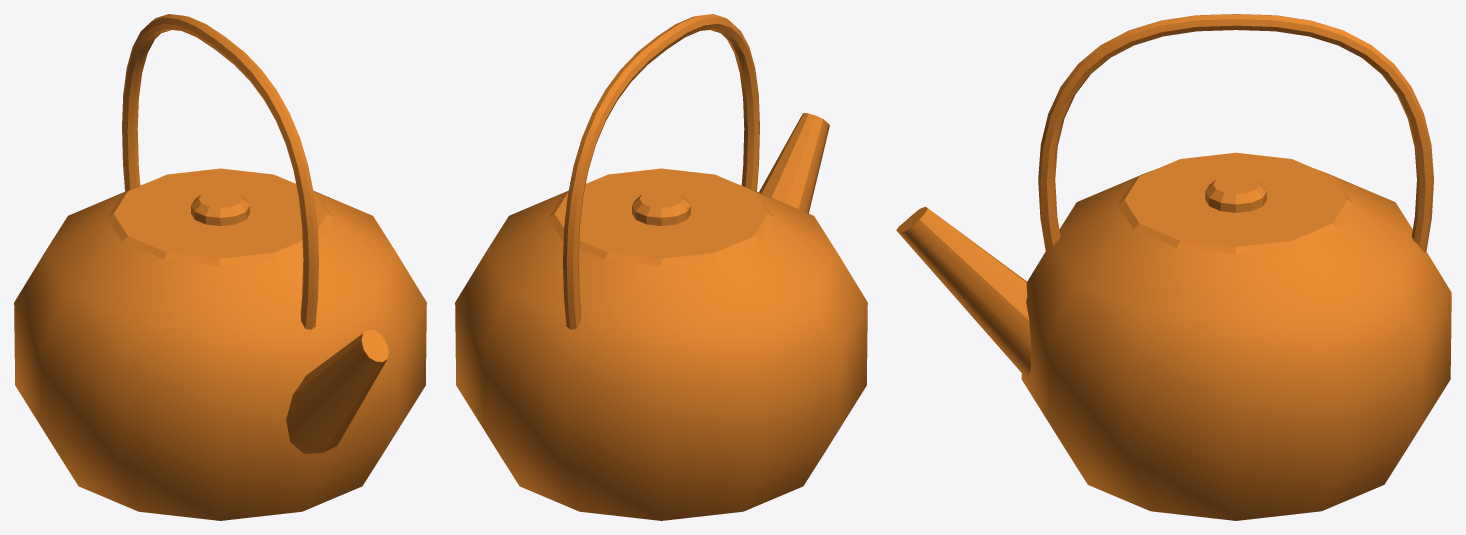
File: Kettle.fbx
3 views of the same model, side by side, from view 1: azimuth 30°, elevation 25°; view 2: azimuth 150°, elevation 25°; view 3: azimuth 270°, elevation 25° (orthographic). The views are drawn at different scales.
Parts seen in each view (by area): view 1: Kettle_p1, Kettle_p2; view 2: Kettle_p1, Kettle_p2; view 3: Kettle_p1, Kettle_p2.
Part boxes in pixels (bbox=[...]): Kettle_p1: bbox=[14, 14, 426, 520]; Kettle_p2: bbox=[107, 168, 333, 265]; Kettle_p1: bbox=[455, 14, 867, 520]; Kettle_p2: bbox=[548, 168, 774, 265]; Kettle_p1: bbox=[896, 14, 1451, 520]; Kettle_p2: bbox=[1118, 152, 1354, 254].
Size of the model in its own units: 36.65 by 40.74 by 47.22.
